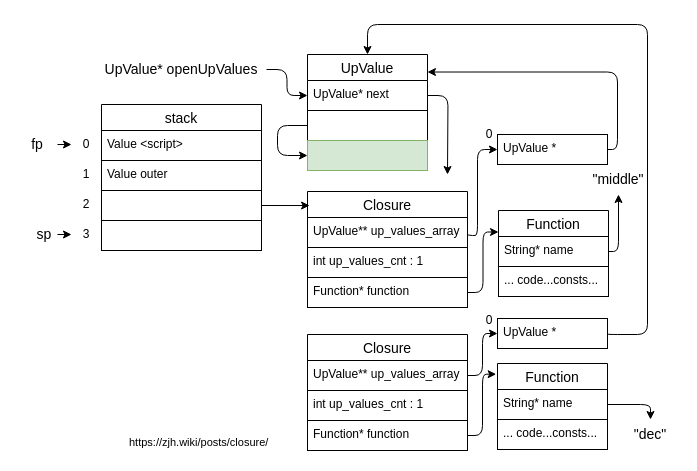
Image size: 697x471. Some labels were removed from this diagram. Each missing label, with the centre of its shape:
Value cnt: 1: pixel 367 155
Value middle: pixel 181 205
Value* location: pixel 367 125
